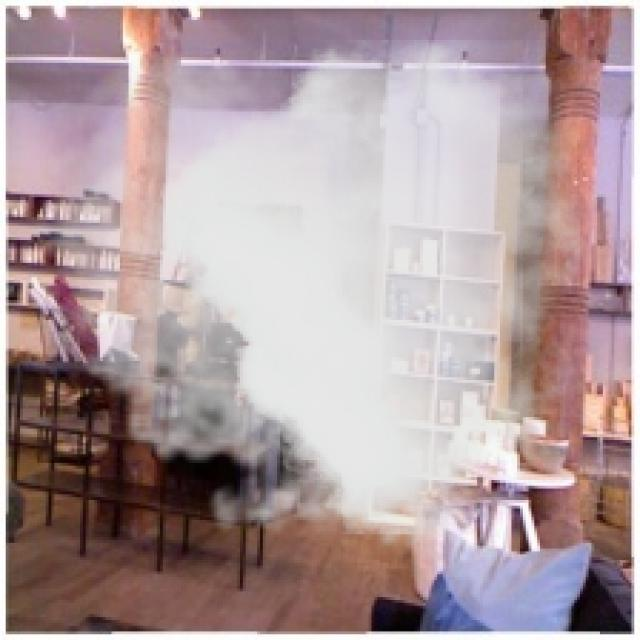smoke: (14, 40, 580, 566)
